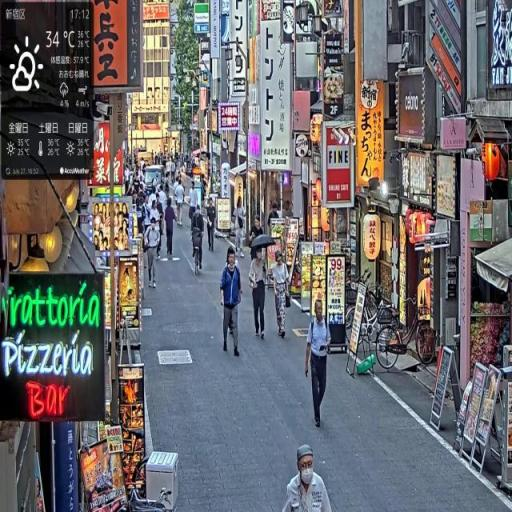person: (304, 293, 333, 431), (284, 444, 333, 512), (220, 247, 244, 360), (249, 236, 270, 342), (144, 216, 161, 291), (192, 208, 206, 275), (165, 199, 178, 261), (236, 197, 247, 260), (207, 197, 218, 254), (175, 178, 187, 226)
